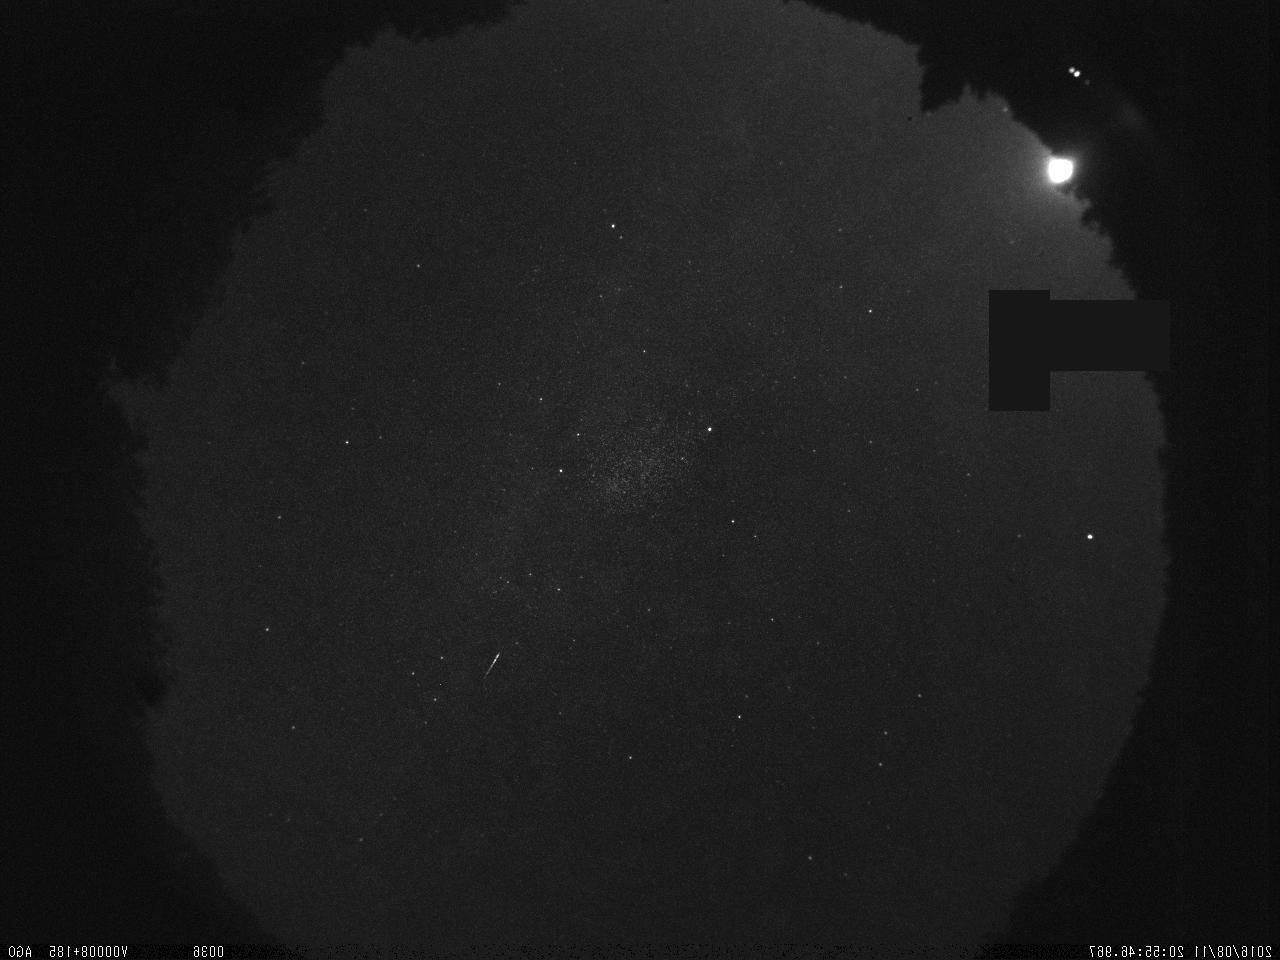meteor: (473, 646, 507, 691)
